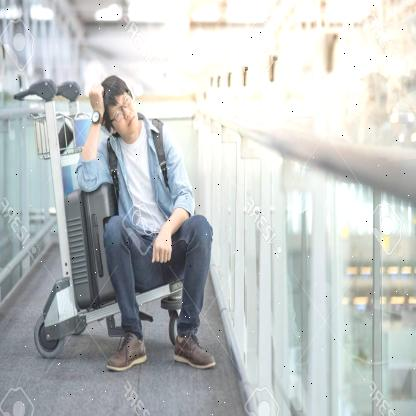airport-trolley: (13, 80, 208, 358)
